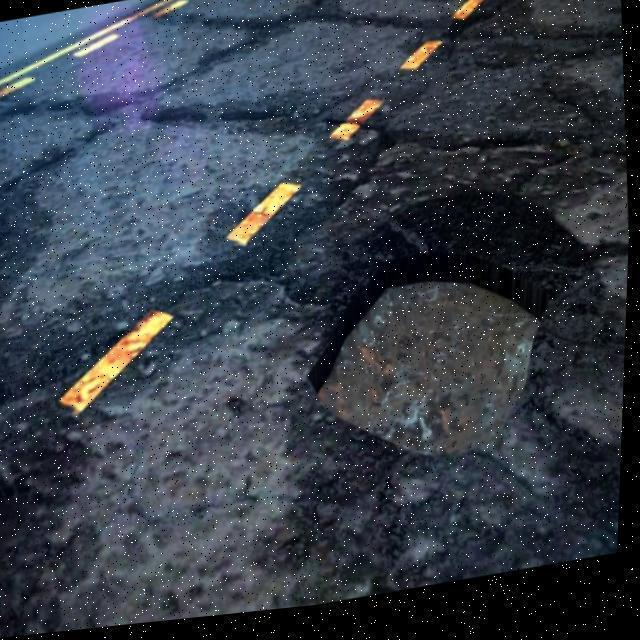Pothole: (311, 264, 565, 469)
